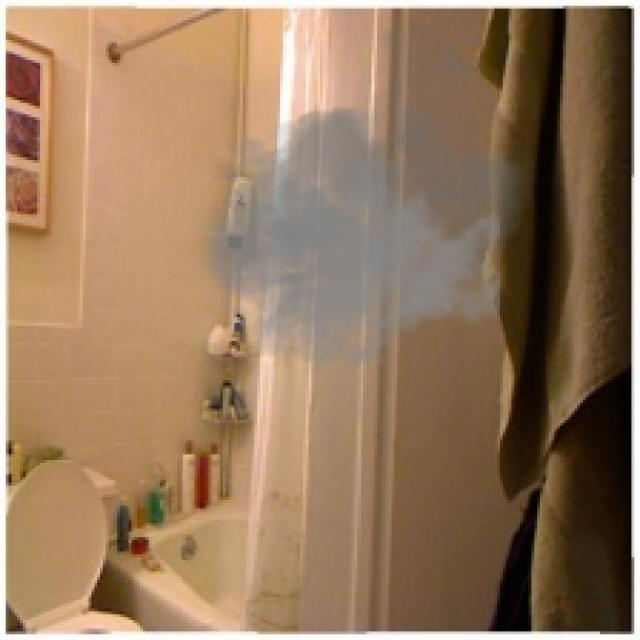Smoke: (183, 12, 543, 377)
